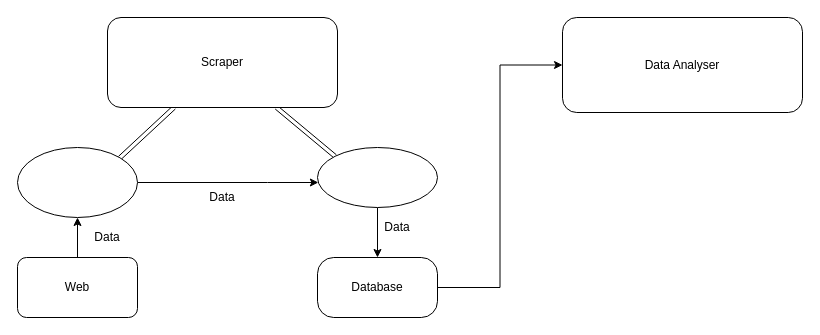
This 820x335 diagram has some shape labels left out. The shapes that lost their labels are listed below. From the top down, each one's centre as x and y in pixels, then its label:
At point 77,182: "request".
At point 377,177: "parser".
